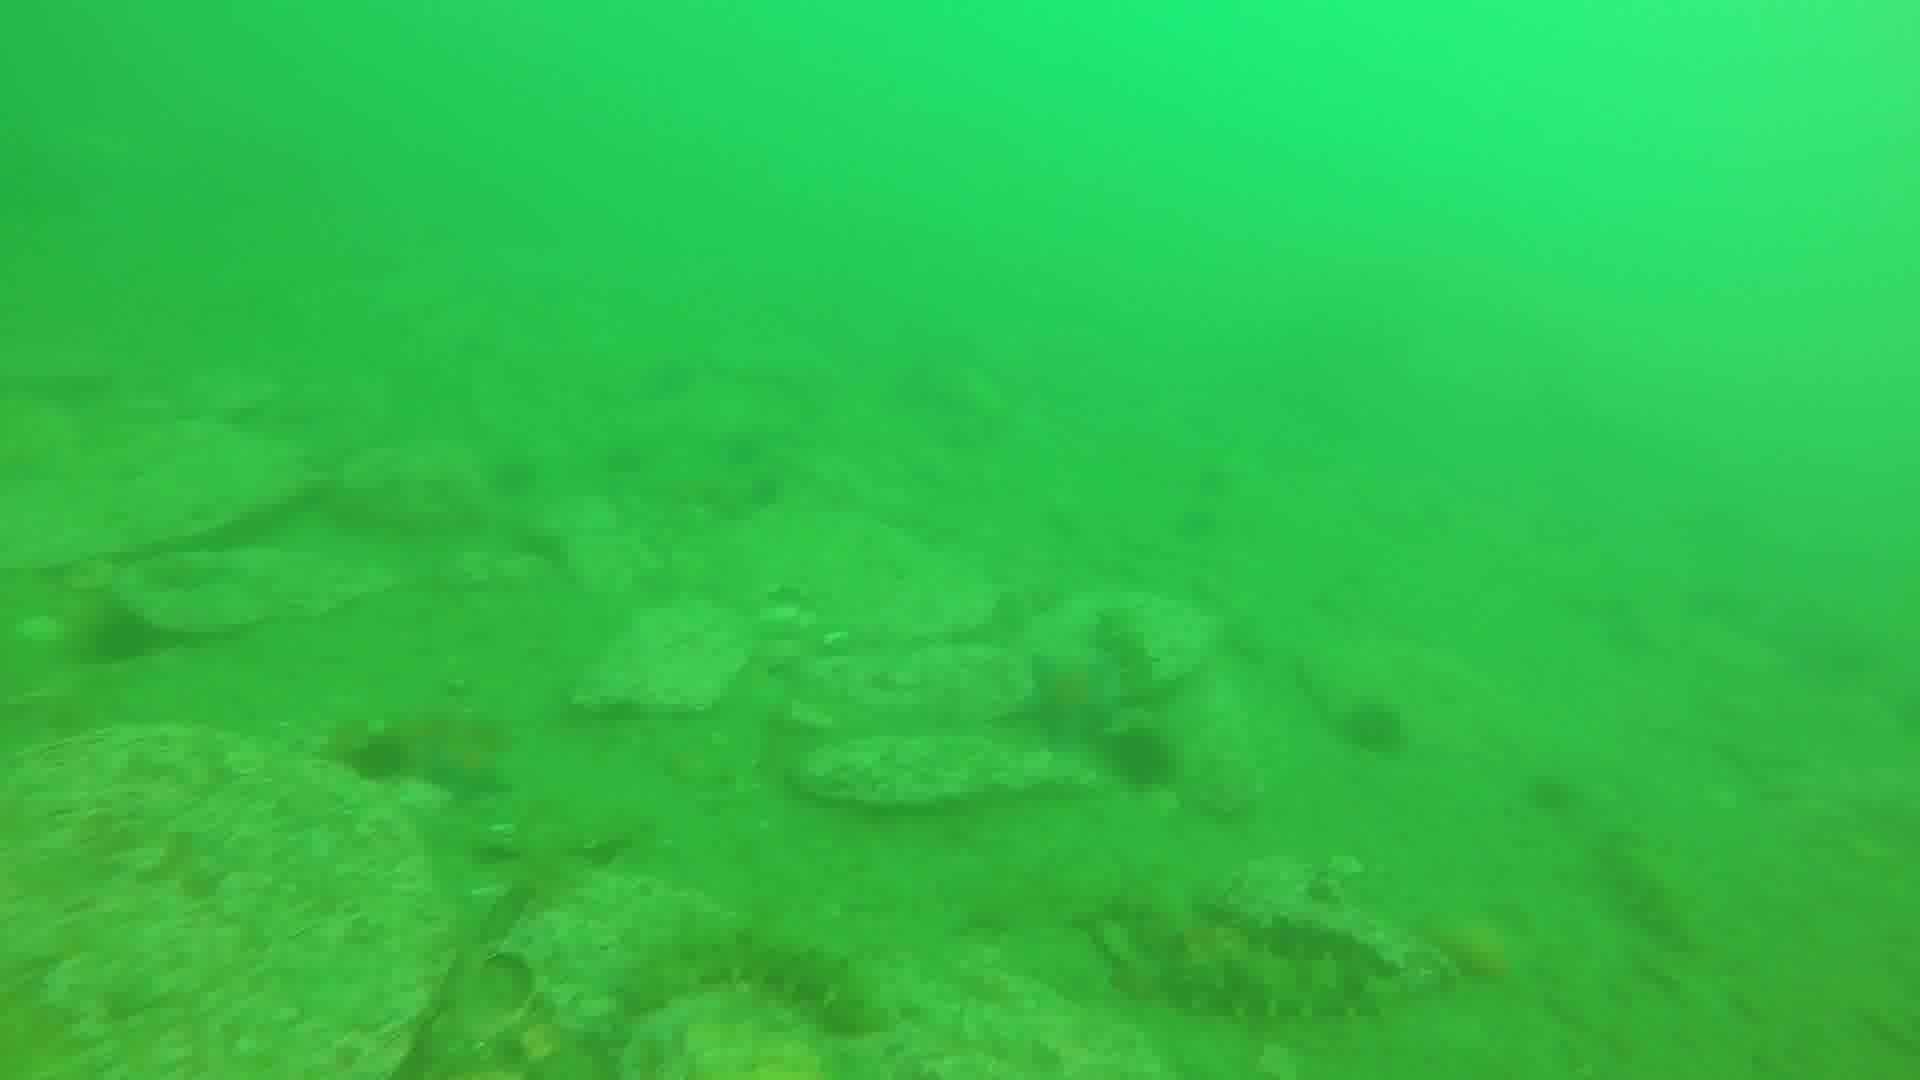echinus: (1100, 719, 1183, 795), (78, 603, 164, 673), (1335, 695, 1414, 762), (340, 728, 415, 790), (1520, 766, 1582, 820)
holothurian: (1089, 884, 1390, 1030), (615, 920, 891, 1035), (1589, 828, 1702, 953)
starfish: (1004, 641, 1131, 753), (411, 731, 516, 806)
